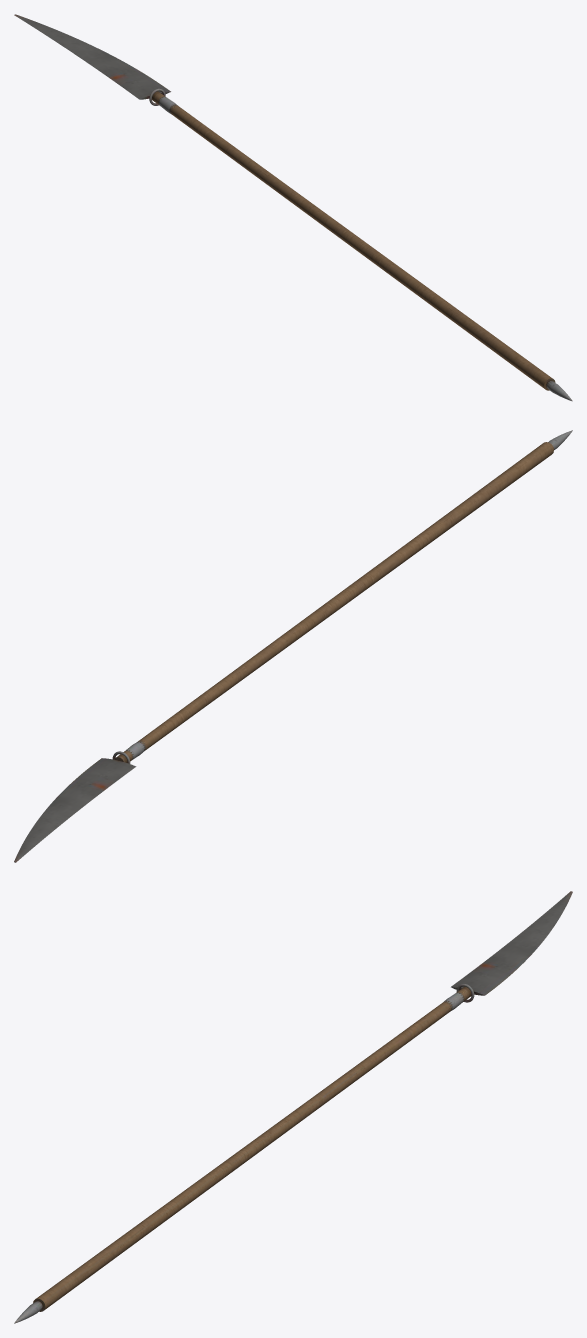
Rendered from straight_scythe.glb.
3 views of the same model, one above another, from view 1: azimuth 30°, elevation 25°; view 2: azimuth 150°, elevation 25°; view 3: azimuth 330°, elevation 25° (orthographic). The views are drawn at different scales.
Visible parts, largest first — view 1: straight_scythe; view 2: straight_scythe; view 3: straight_scythe.
Boxes of the visible parts, <box> form: straight_scythe: <box>14,14,572,401</box>; straight_scythe: <box>14,430,572,862</box>; straight_scythe: <box>14,891,572,1323</box>.
Bounding box in the file's own units: 0.106 × 0.043 × 2.5.
Materials: 1 (1 with a texture image).
